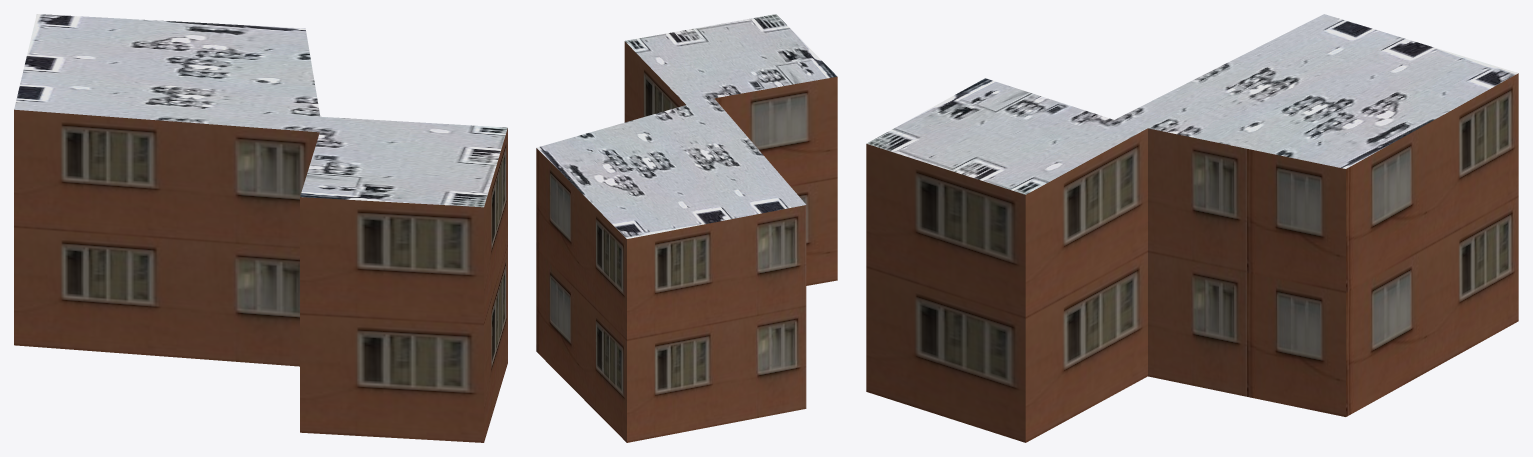
The model's file is ResTex__4703.fbx.
The picture shows the model from 3 angles, left to right: view 1: azimuth 30°, elevation 25°; view 2: azimuth 150°, elevation 25°; view 3: azimuth 270°, elevation 25°; orthographic projection. The views are drawn at different scales.
Visible parts, largest first — view 1: CityEngineMaterial_20_m, CityEngineMaterial_8_m; view 2: CityEngineMaterial_20_m, CityEngineMaterial_8_m; view 3: CityEngineMaterial_20_m, CityEngineMaterial_8_m.
Boxes of the visible parts, x1,y1,x2,y2 form: CityEngineMaterial_20_m: (14, 109, 507, 442); CityEngineMaterial_8_m: (14, 14, 507, 207); CityEngineMaterial_20_m: (536, 41, 837, 442); CityEngineMaterial_8_m: (536, 14, 836, 238); CityEngineMaterial_20_m: (866, 73, 1518, 442); CityEngineMaterial_8_m: (866, 14, 1518, 194).
Size of the model in its own units: 9.38 by 6 by 14.3.
Materials: 2 (2 with a texture image).
